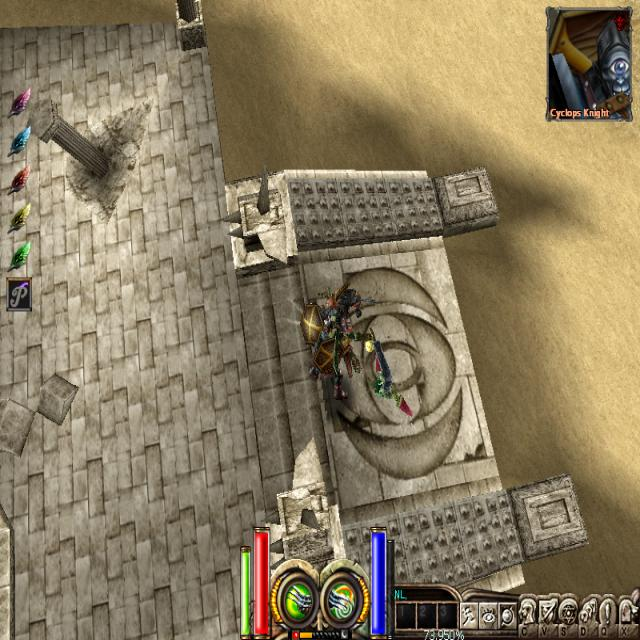monster: (368, 346, 418, 424)
